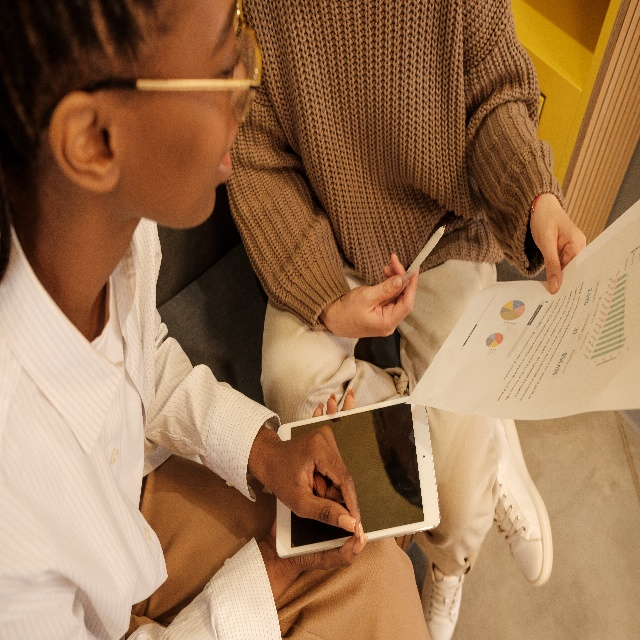Gafas: (138, 0, 269, 120)
Sin_guantes: (271, 389, 368, 570), (275, 426, 365, 539), (336, 253, 421, 337), (531, 197, 586, 292)
